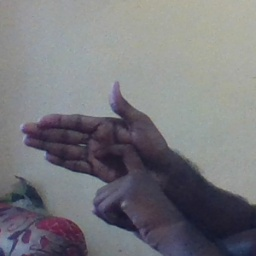R: (19, 75, 173, 223)
